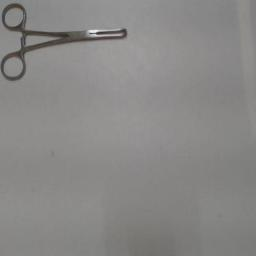Allis Tissue Forceps: (0, 2, 134, 88)
